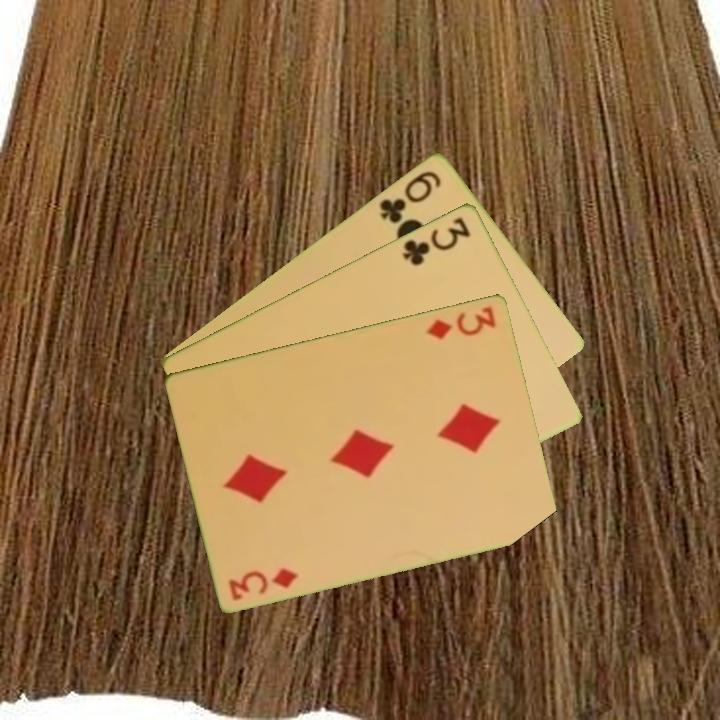3c: (399, 213, 474, 268)
3d: (422, 302, 499, 342), (225, 564, 301, 603)
6c: (375, 166, 445, 226)
